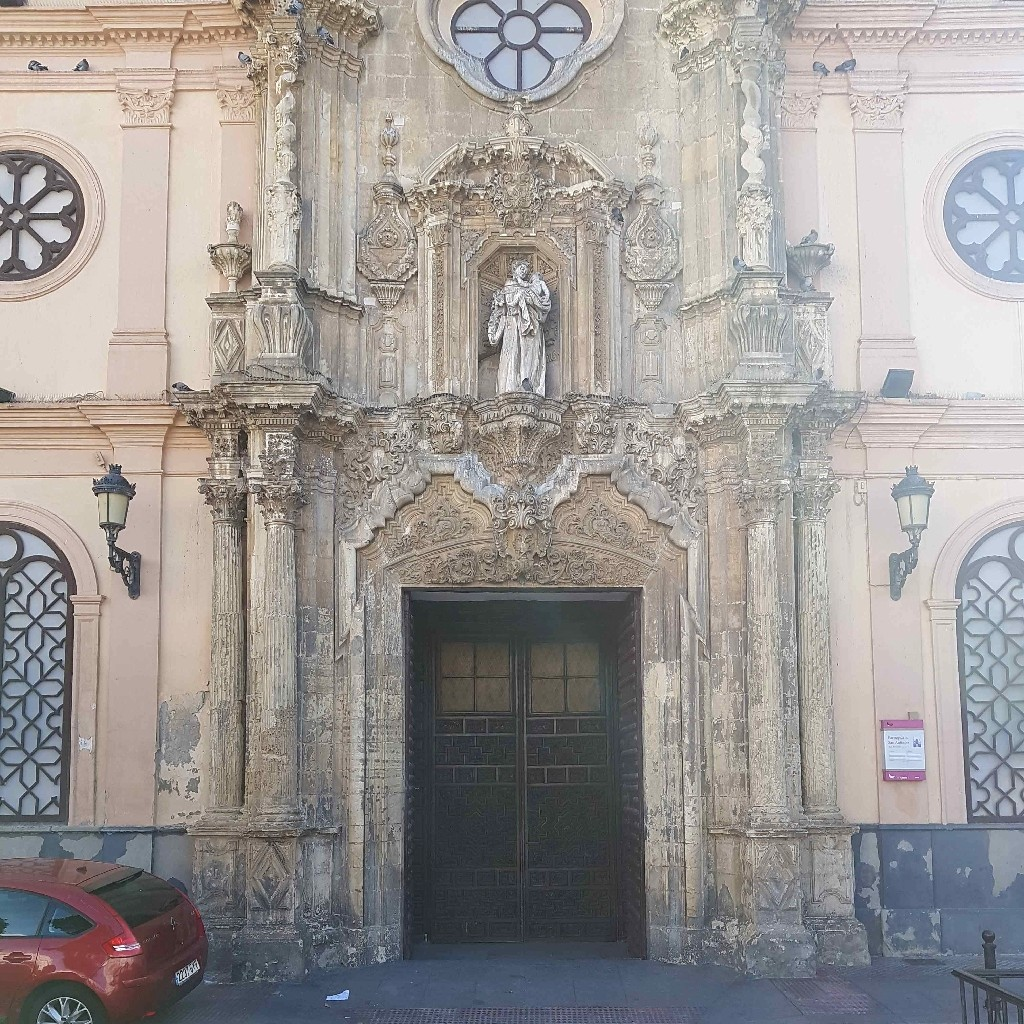columna-salomonica: (731, 63, 783, 240), (261, 61, 313, 237)
fronton-partido: (410, 133, 626, 205)
vano-adintelado: (371, 572, 670, 980)
